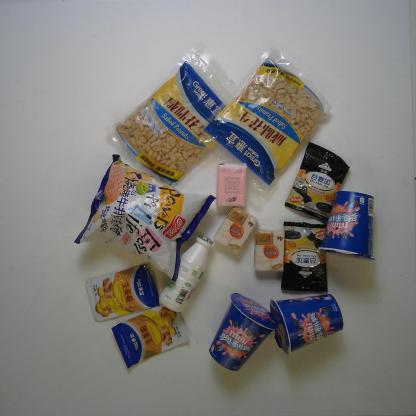Dessert: (208, 292, 277, 373), (267, 292, 343, 356), (321, 189, 379, 262)
Dried Fruit: (199, 49, 333, 201), (106, 46, 242, 186)
Instant Drink: (281, 142, 349, 220), (279, 221, 330, 296)
Milk: (158, 235, 213, 312)
Puffed Food: (72, 152, 219, 280)
Seasoner: (110, 305, 190, 370), (86, 263, 162, 327)
Tissue: (212, 208, 258, 255), (215, 162, 248, 206), (252, 229, 285, 273)
